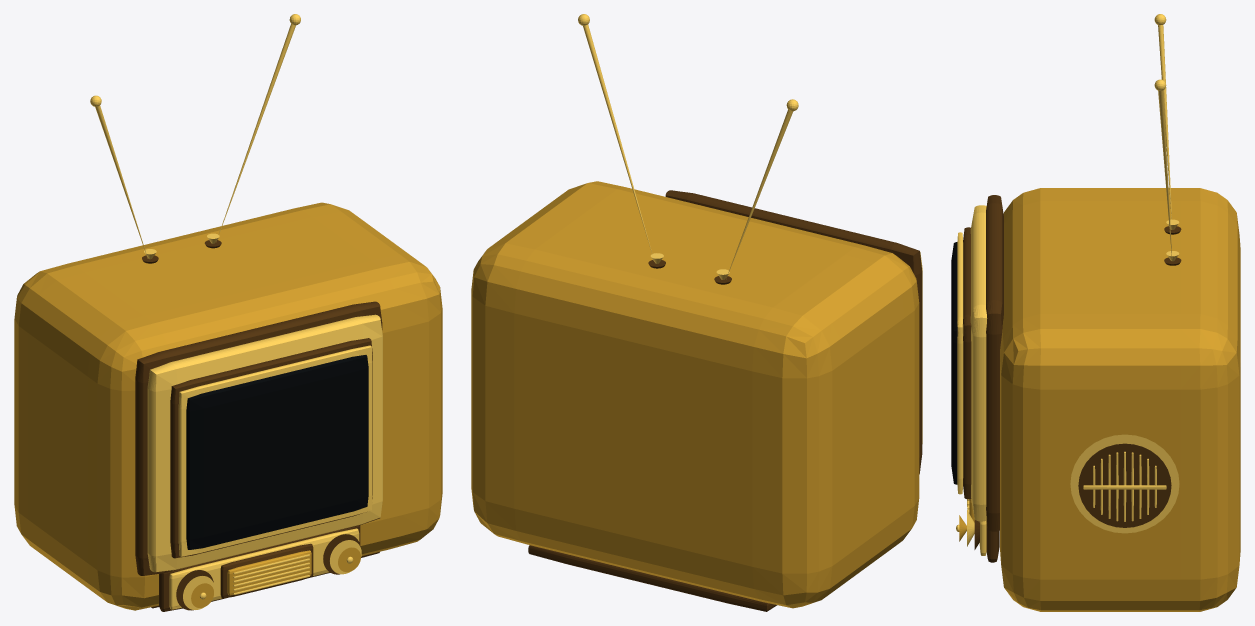
File: GoldenRetroTV.obj
3 views of the same model, side by side, from view 1: azimuth 30°, elevation 25°; view 2: azimuth 150°, elevation 25°; view 3: azimuth 270°, elevation 25° (orthographic). The views are drawn at different scales.
Visible parts, largest first — view 1: Cabinet_shell, Smoked_convex_CRT, Raised_bezel, Bezel_shadow, Screen_trim, Screen_well, Fascia_gold_face, Center_grille_face, Center_grille_rim, Control_fascia, Right_aerial; view 2: Cabinet_shell, Bezel_shadow, Bottom_foot_lip, Right_aerial, Left_aerial; view 3: Cabinet_shell, Bezel_shadow, Speaker_inner_field, Raised_bezel, Speaker_outer_rim, Screen_well, Screen_trim, Smoked_convex_CRT, Left_aerial, Right_aerial, Control_fascia, Side_grille_crossbar.
Boxes of the visible parts, <box> form: Cabinet_shell: <box>14,202,442,610</box>; Smoked_convex_CRT: <box>186,355,368,549</box>; Raised_bezel: <box>147,314,382,572</box>; Bezel_shadow: <box>135,301,382,575</box>; Screen_trim: <box>178,345,372,556</box>; Screen_well: <box>170,338,372,558</box>; Fascia_gold_face: <box>169,528,359,609</box>; Center_grille_face: <box>227,550,311,595</box>; Center_grille_rim: <box>220,543,313,598</box>; Control_fascia: <box>159,525,360,611</box>; Right_aerial: <box>216,24,295,241</box>; Cabinet_shell: <box>471,181,919,608</box>; Bezel_shadow: <box>665,190,922,474</box>; Bottom_foot_lip: <box>528,545,776,611</box>; Right_aerial: <box>583,24,652,254</box>; Left_aerial: <box>726,109,793,279</box>; Cabinet_shell: <box>1000,188,1240,611</box>; Bezel_shadow: <box>986,195,1003,531</box>; Speaker_inner_field: <box>1078,443,1171,527</box>; Raised_bezel: <box>970,205,987,521</box>; Speaker_outer_rim: <box>1070,434,1179,533</box>; Screen_well: <box>963,227,971,499</box>; Screen_trim: <box>957,232,963,494</box>; Smoked_convex_CRT: <box>951,242,957,484</box>; Left_aerial: <box>1158,25,1171,219</box>; Right_aerial: <box>1158,90,1172,260</box>; Control_fascia: <box>986,522,999,562</box>; Side_grille_crossbar: <box>1083,485,1166,489</box>.
Size of the model in its own units: 1.36 by 1.84 by 0.938.
